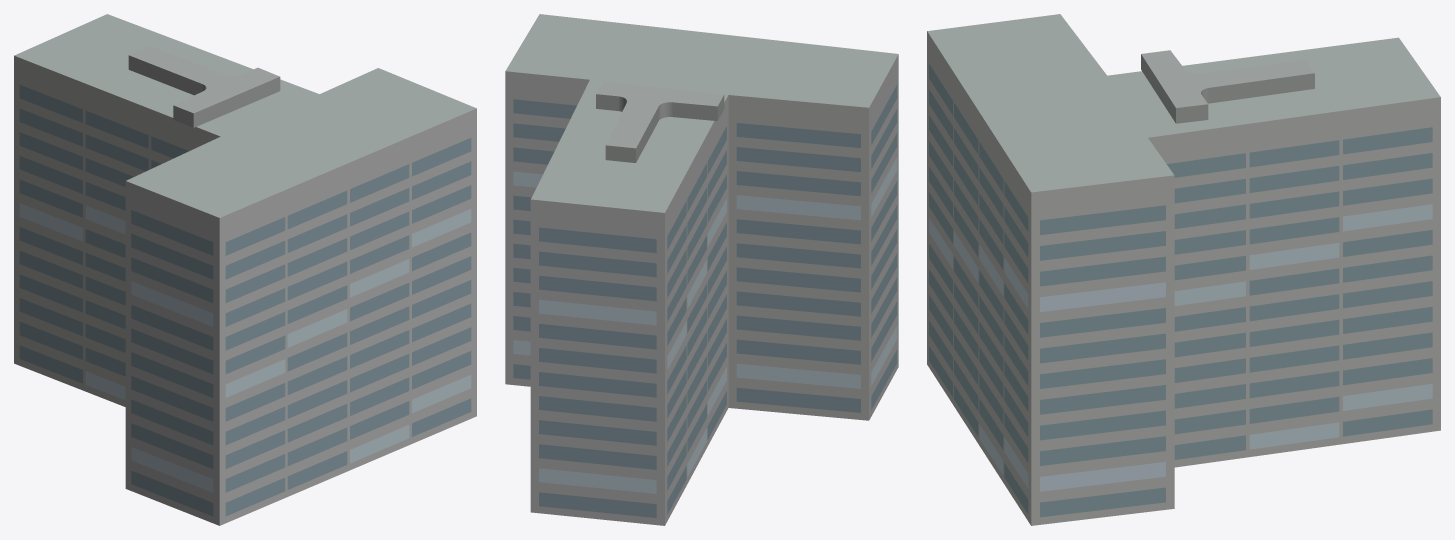
Rendered from named-apt-ec2f624d-e12f-43eb-a846-71a113d73f7a.glb.
3 views of the same model, side by side, from view 1: azimuth 30°, elevation 25°; view 2: azimuth 150°, elevation 25°; view 3: azimuth 270°, elevation 25° (orthographic). The views are drawn at different scales.
Parts seen in each view (by area): view 1: named-apt-ec2f624d-e12f-43eb-a846-71a113d73f7a; view 2: named-apt-ec2f624d-e12f-43eb-a846-71a113d73f7a; view 3: named-apt-ec2f624d-e12f-43eb-a846-71a113d73f7a.
Part boxes in pixels (box(x1,y1,x2,y2)): named-apt-ec2f624d-e12f-43eb-a846-71a113d73f7a: box(14, 14, 476, 525); named-apt-ec2f624d-e12f-43eb-a846-71a113d73f7a: box(505, 14, 898, 525); named-apt-ec2f624d-e12f-43eb-a846-71a113d73f7a: box(927, 14, 1440, 525).
Bounding box in the file's own units: 39.45 × 36 × 47.99.
